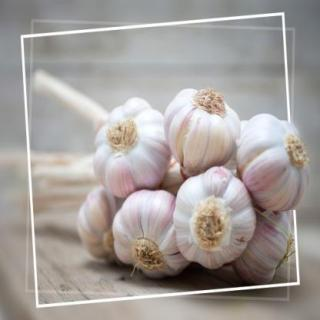Bawang Putih: (174, 167, 256, 271), (93, 97, 174, 200), (113, 190, 194, 280), (165, 89, 242, 170)
